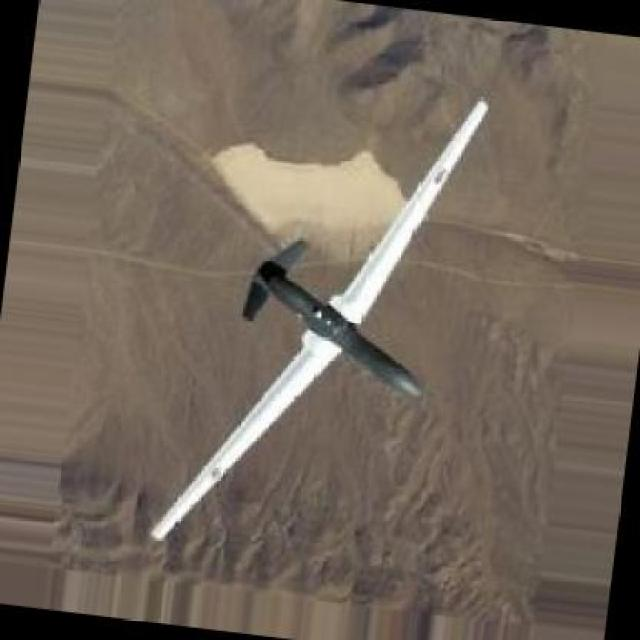iha: (164, 94, 487, 545)
